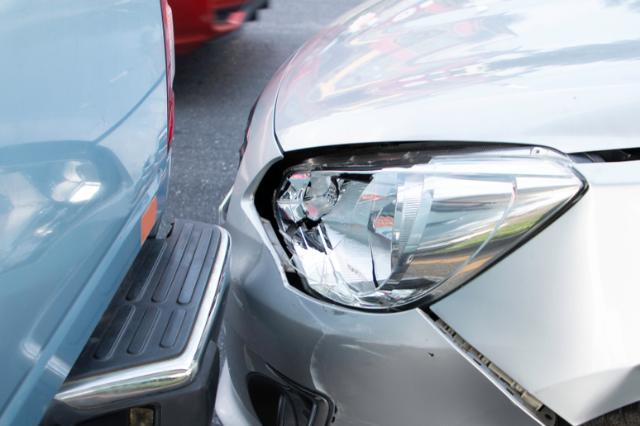Bumper: (286, 308, 568, 426)
Light: (244, 139, 587, 305)
